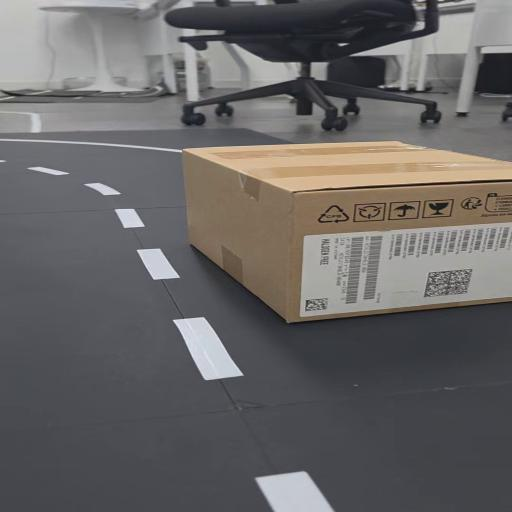Box: (153, 132, 512, 330)
